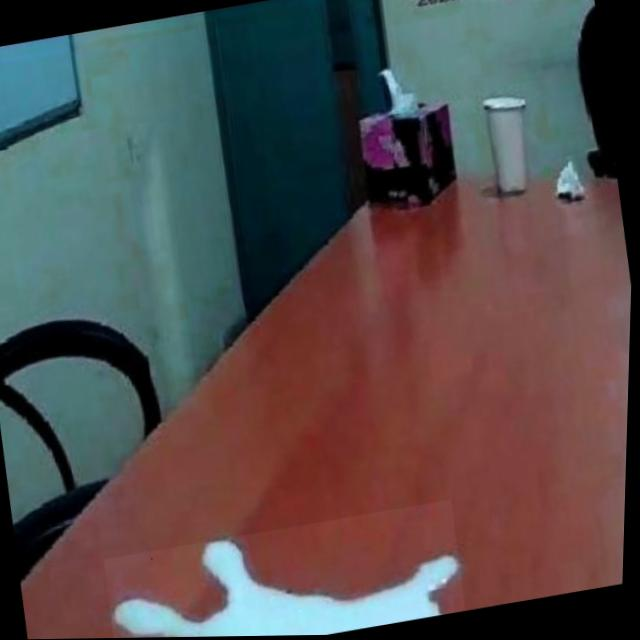spillage: (116, 542, 464, 638)
